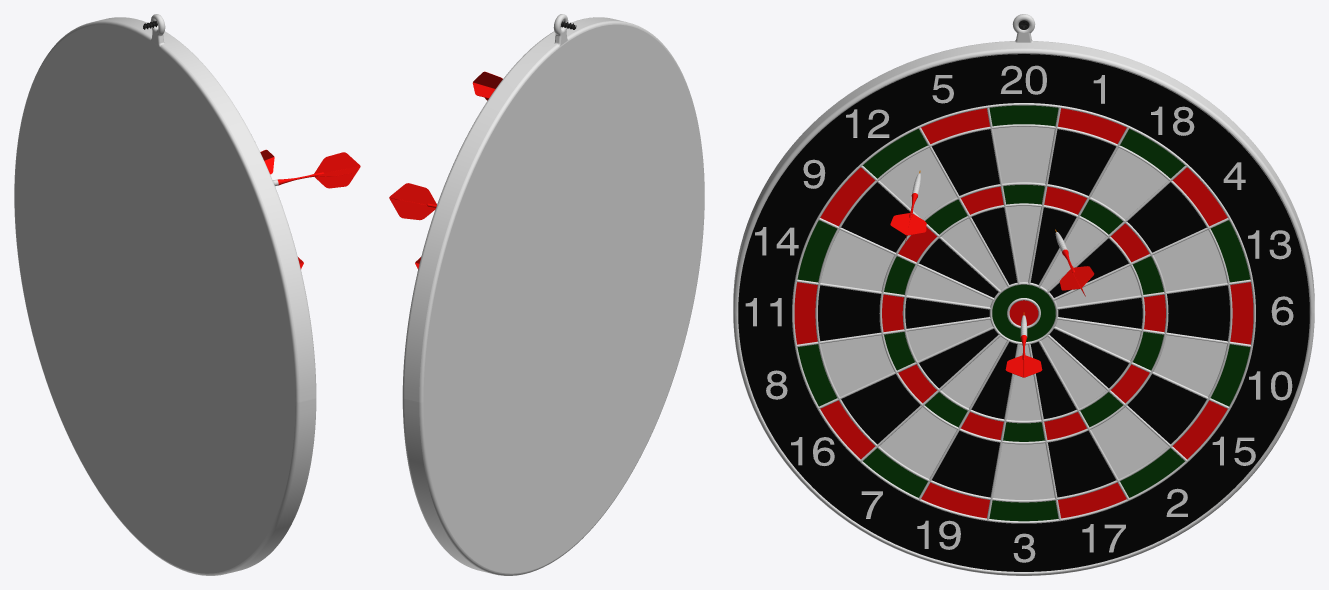
The model's file is Darts.FBX.
3 views of the same model, side by side, from view 1: azimuth 30°, elevation 25°; view 2: azimuth 150°, elevation 25°; view 3: azimuth 270°, elevation 25° (orthographic). The views are drawn at different scales.
Visible parts, largest first — view 1: darts, drotik01; view 2: darts, drotik02, drotik01; view 3: darts, drotik01, drotik02, drotik.
Boxes of the visible parts, bbox=[...] form: darts: bbox=[14, 14, 316, 575]; drotik01: bbox=[272, 152, 360, 188]; darts: bbox=[402, 14, 704, 575]; drotik02: bbox=[389, 183, 436, 220]; drotik01: bbox=[472, 71, 502, 100]; darts: bbox=[733, 14, 1314, 575]; drotik01: bbox=[890, 170, 926, 243]; drotik02: bbox=[1055, 229, 1094, 296]; drotik: bbox=[1005, 312, 1042, 377].
Size of the model in its own units: 58.93 by 190 by 180.
